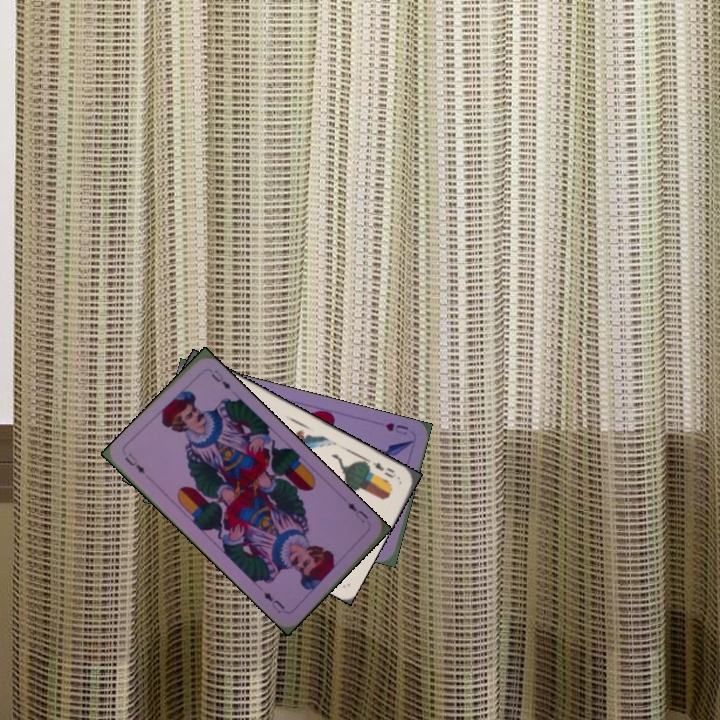EO: (363, 458, 399, 481)
EU: (343, 498, 371, 525), (120, 449, 148, 476)
HU: (381, 418, 411, 438)
